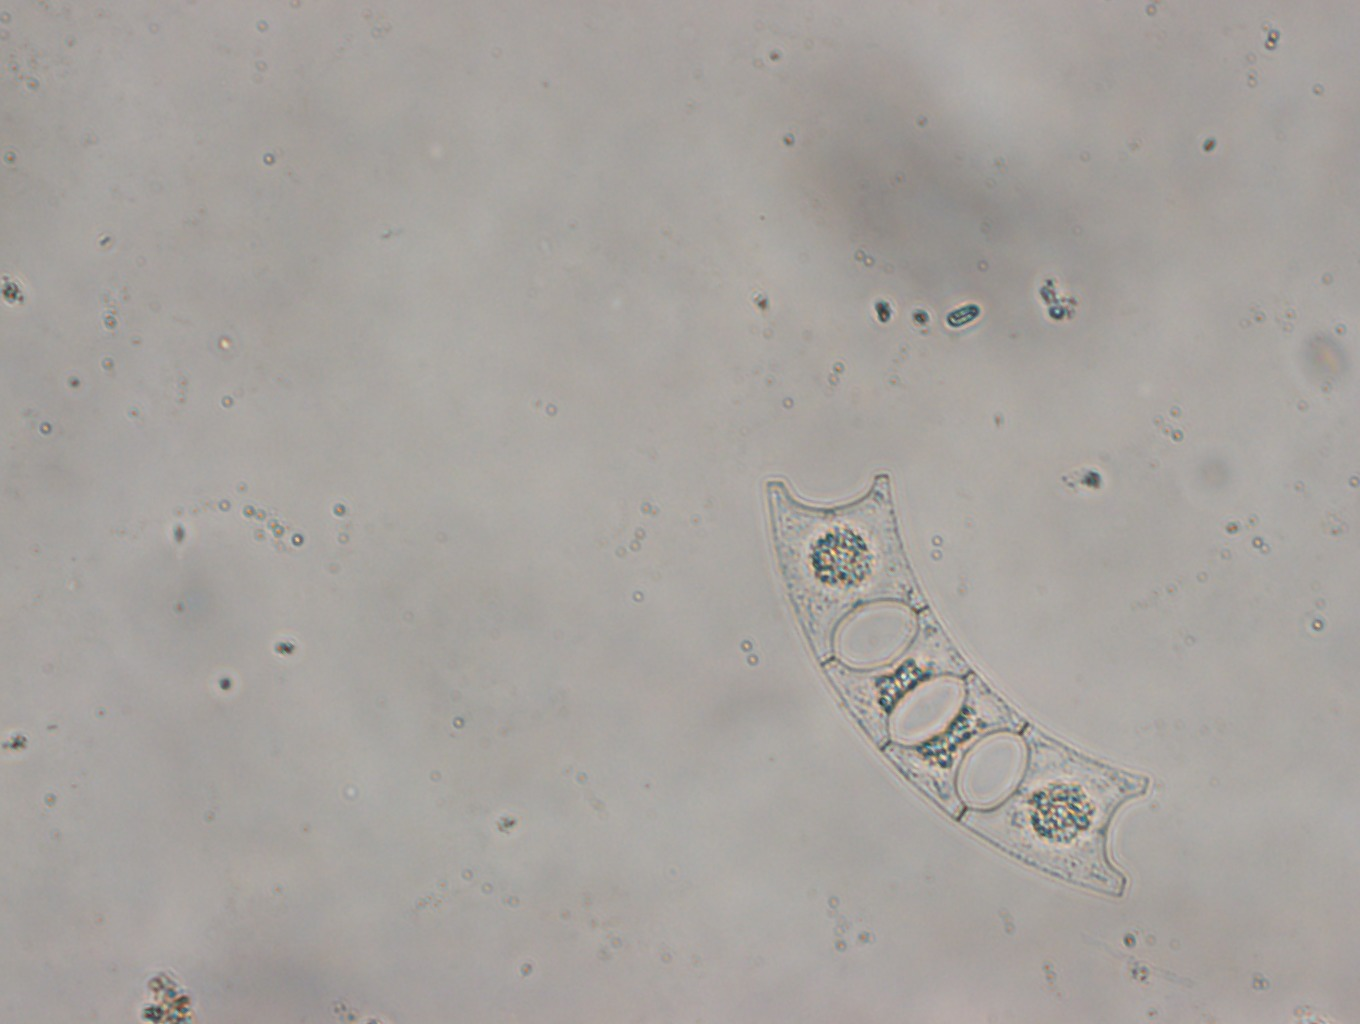eucampia: (762, 473, 1153, 909)
